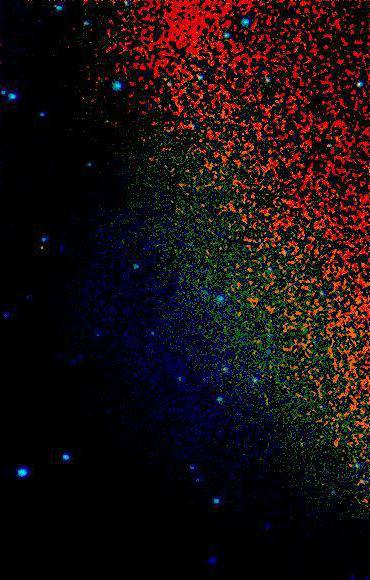star: (26, 235, 56, 265)
